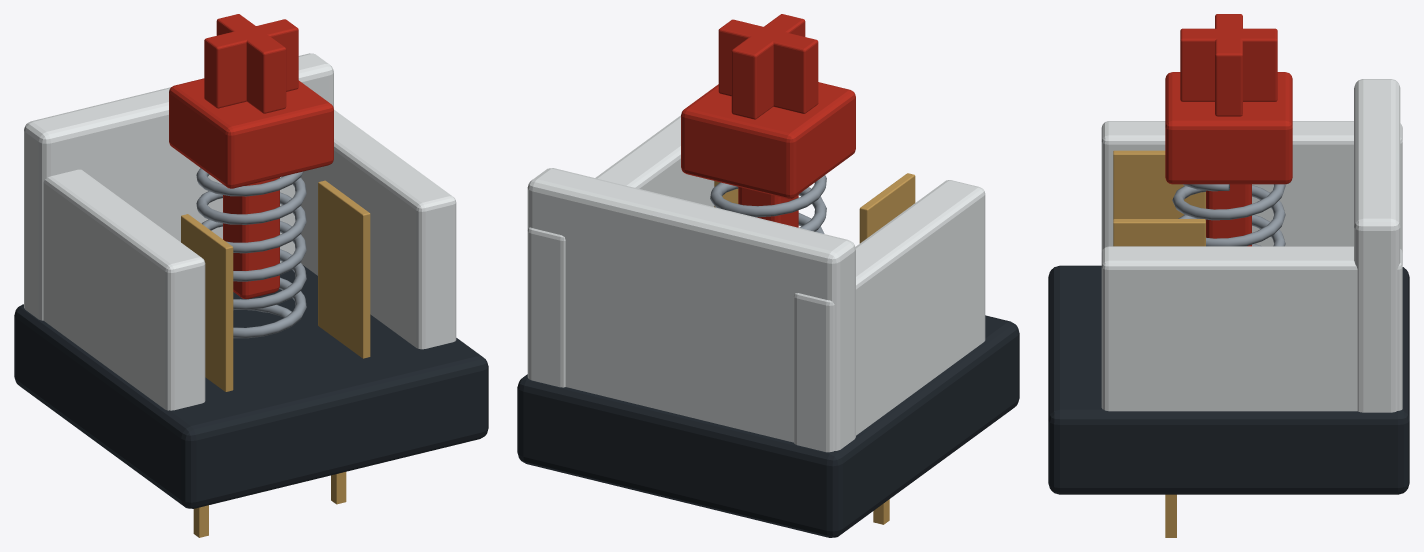
File: switch.glb
3 views of the same model, side by side, from view 1: azimuth 30°, elevation 25°; view 2: azimuth 150°, elevation 25°; view 3: azimuth 270°, elevation 25° (orthographic). The views are drawn at different scales.
Visible parts, largest first — view 1: Switch bottom housing, Retained switch wall, Rear upper housing, Retained switch wall.001, Stem slider shoulder, Copper contact leaf.001, Compression spring exposed in cutaway, Copper contact leaf, Cross stem x, Stem spring guide, Cross stem y; view 2: Rear upper housing, Switch bottom housing, Retained switch wall, Stem slider shoulder, Retained switch wall.001, Cross stem x, Cross stem y, Compression spring exposed in cutaway, Copper contact leaf, Stem spring guide; view 3: Retained switch wall.001, Switch bottom housing, Rear upper housing, Retained switch wall, Stem slider shoulder, Cross stem y, Copper contact leaf, Compression spring exposed in cutaway, Cross stem x, Copper contact leaf.001, Stem spring guide, PCB solder pin.001.
Boxes of the visible parts, x1,y1,x2,y2 form: Switch bottom housing: (14,265,488,508); Retained switch wall: (43,169,205,410); Rear upper housing: (24,53,333,320); Retained switch wall.001: (301,110,456,349); Stem slider shoulder: (169,78,333,188); Copper contact leaf.001: (318,180,370,358); Compression spring exposed in cutaway: (196,168,306,338); Copper contact leaf: (181,214,233,391); Cross stem x: (204,19,298,108); Stem spring guide: (223,177,279,299); Cross stem y: (216,14,286,113); Rear upper housing: (527,168,855,450); Switch bottom housing: (517,315,1019,537); Retained switch wall: (793,180,985,452); Stem slider shoulder: (681,82,855,198); Retained switch wall.001: (527,115,714,387); Cross stem x: (718,19,818,113); Cross stem y: (731,14,805,119); Compression spring exposed in cutaway: (710,175,826,233); Copper contact leaf: (859,173,915,243); Stem spring guide: (738,187,798,227); Retained switch wall.001: (1101,246,1402,411); Switch bottom housing: (1048,265,1409,494); Rear upper housing: (1354,79,1400,412); Retained switch wall: (1101,121,1402,252); Stem slider shoulder: (1165,72,1292,184); Cross stem y: (1180,28,1277,101); Copper contact leaf: (1113,150,1205,219); Compression spring exposed in cutaway: (1172,184,1285,246); Cross stem x: (1215,14,1242,116); Copper contact leaf.001: (1113,219,1205,246); Stem spring guide: (1206,184,1251,246); PCB solder pin.001: (1165,494,1176,537).
Size of the model in its own units: 0.0156 by 0.0225 by 0.0156.
5 materials, 5 textured.
